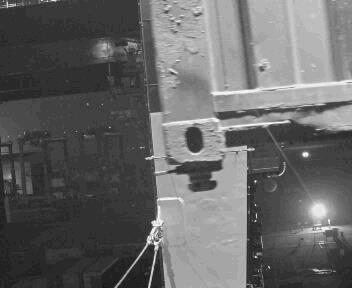twist_lock_1: (154, 158, 213, 197)
